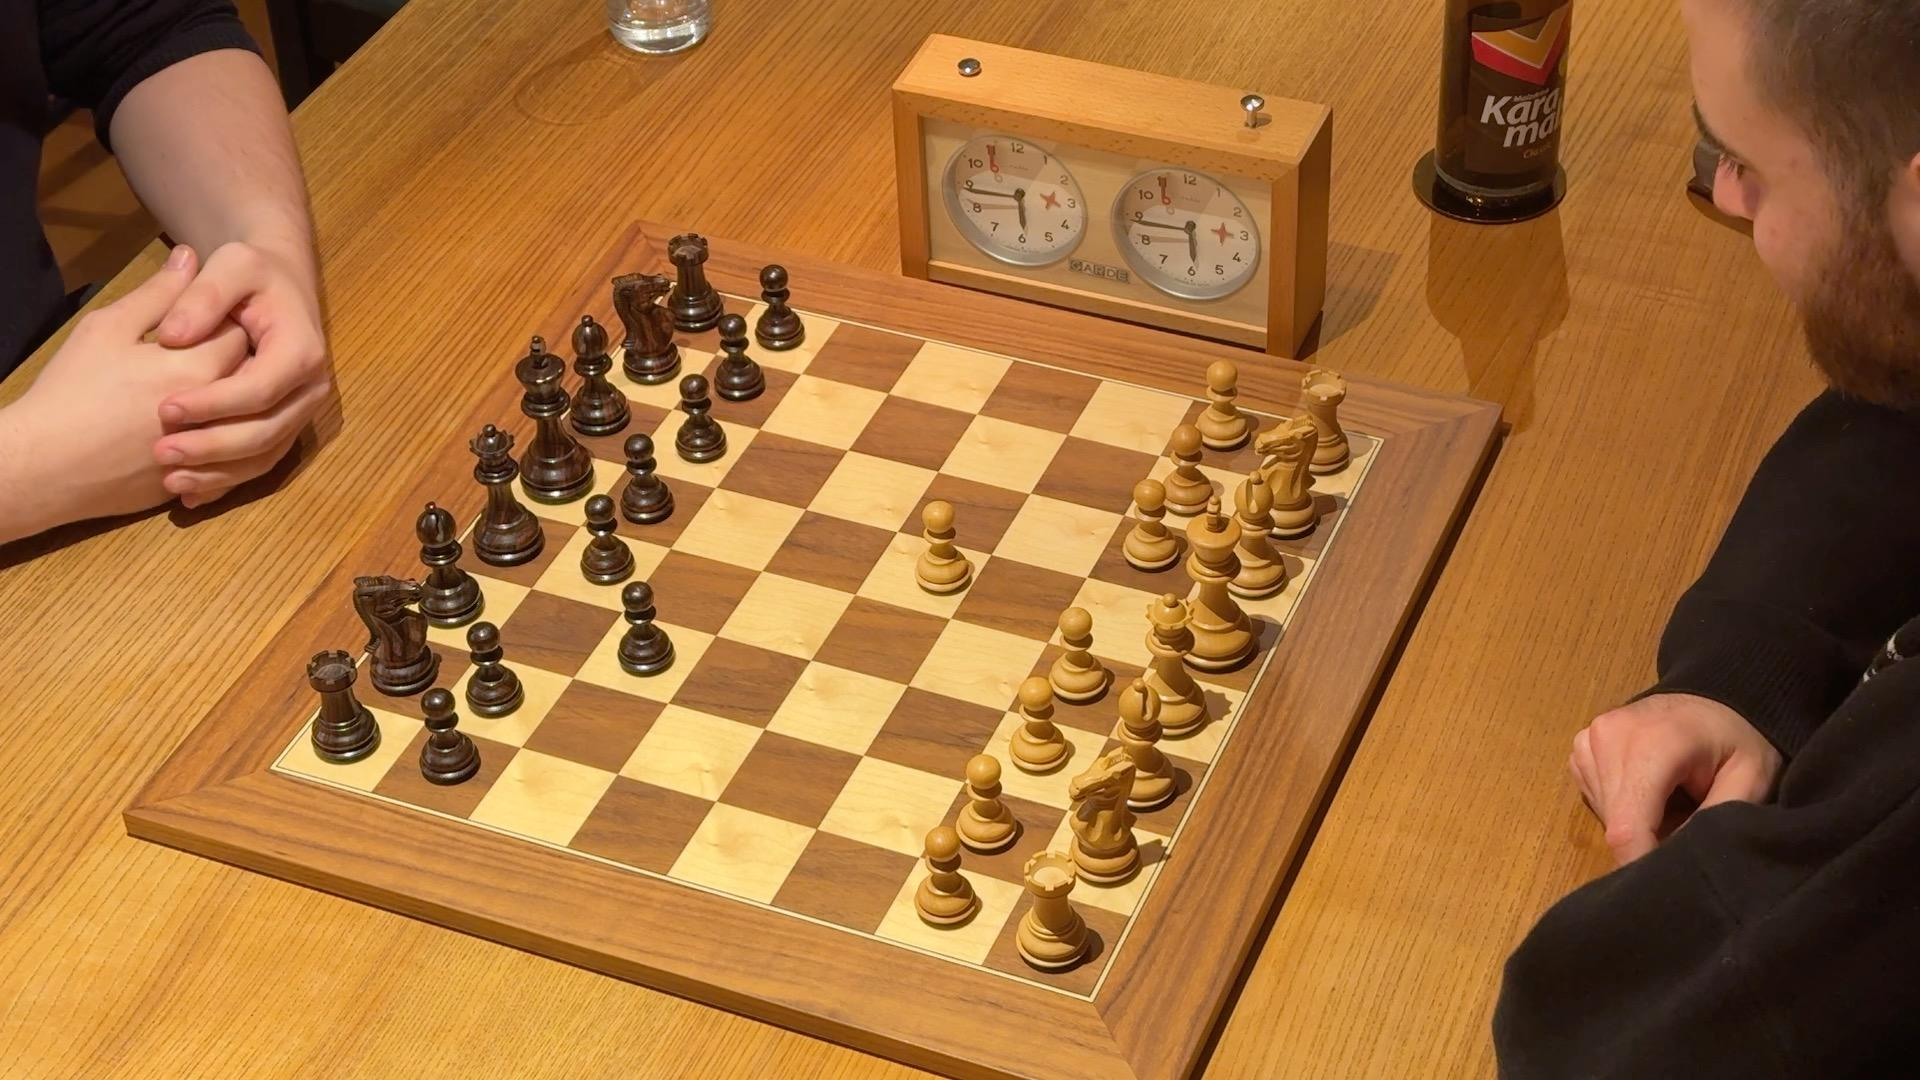Black Bishop: (406, 495, 489, 636), (566, 307, 634, 439)
Black King: (512, 326, 604, 505)
Black Knight: (345, 566, 442, 702), (609, 268, 686, 389)
Black Pawn: (462, 617, 529, 721), (417, 683, 484, 787), (612, 576, 676, 680), (576, 489, 640, 588), (617, 429, 678, 529), (673, 369, 731, 467), (752, 260, 808, 355), (711, 310, 767, 404)
Black Queen: (463, 418, 551, 571)
Black Rook: (303, 642, 386, 769), (662, 227, 731, 335)
White Bishop: (1104, 674, 1178, 814), (1207, 472, 1273, 609)
White King: (1180, 489, 1257, 675)
White Knight: (1062, 745, 1145, 890), (1246, 414, 1324, 543)
White Pawn: (909, 819, 982, 935), (952, 748, 1023, 857), (1005, 670, 1075, 778), (1044, 601, 1113, 705), (909, 496, 977, 600), (1116, 473, 1182, 576), (1155, 417, 1217, 518), (1192, 357, 1253, 456)
White Queen: (1130, 589, 1212, 744)
White Rook: (1011, 843, 1093, 973), (1286, 365, 1357, 481)
